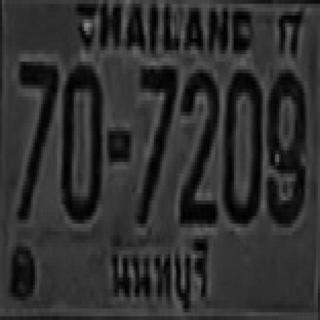N00: (60, 62, 100, 220), (222, 66, 260, 220)
N02: (178, 66, 218, 220)
N07: (135, 60, 174, 222), (18, 58, 56, 216)
N09: (264, 66, 304, 220)
P37: (107, 233, 215, 318)
